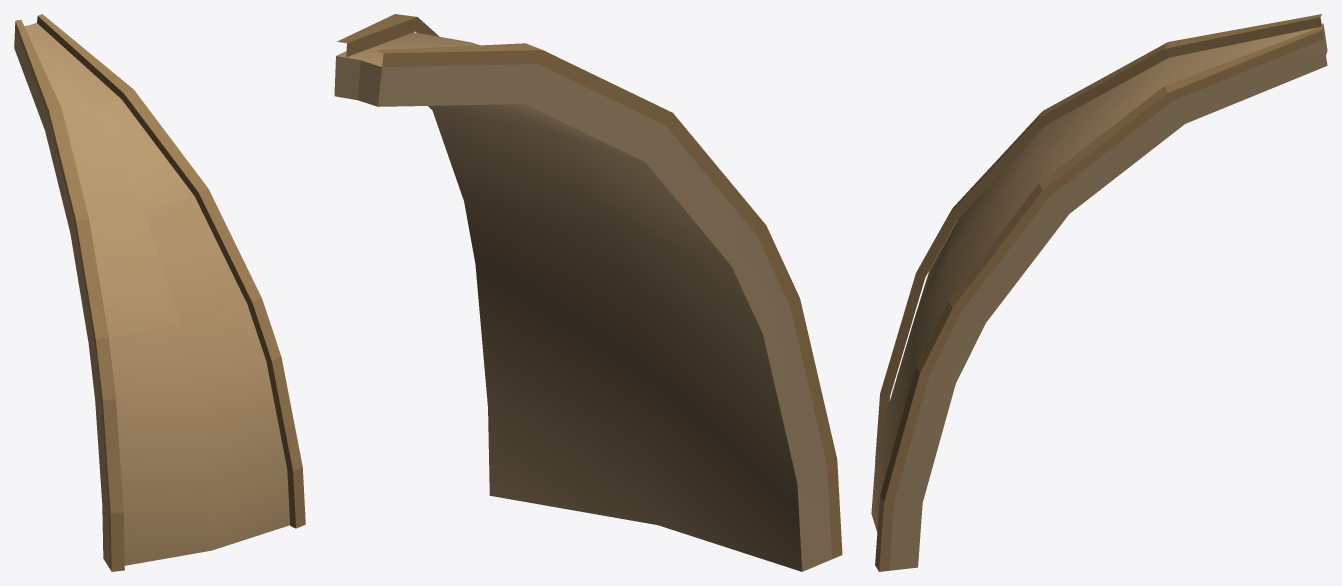
Rendered from dome.panel_12.sandstone.glb.
3 renders of one model, left to right at view 1: azimuth 30°, elevation 25°; view 2: azimuth 150°, elevation 25°; view 3: azimuth 270°, elevation 25°, orthographic. The views are drawn at different scales.
Parts seen in each view (by area): view 1: dome_panel_12_sandstone; view 2: dome_panel_12_sandstone; view 3: dome_panel_12_sandstone.
Boxes of the visible parts, bbox=[...] form: dome_panel_12_sandstone: bbox=[14, 14, 305, 571]; dome_panel_12_sandstone: bbox=[334, 14, 842, 571]; dome_panel_12_sandstone: bbox=[871, 14, 1327, 571].
Size of what is drawn, in the model's own units: 1.85 by 3.63 by 3.06.
